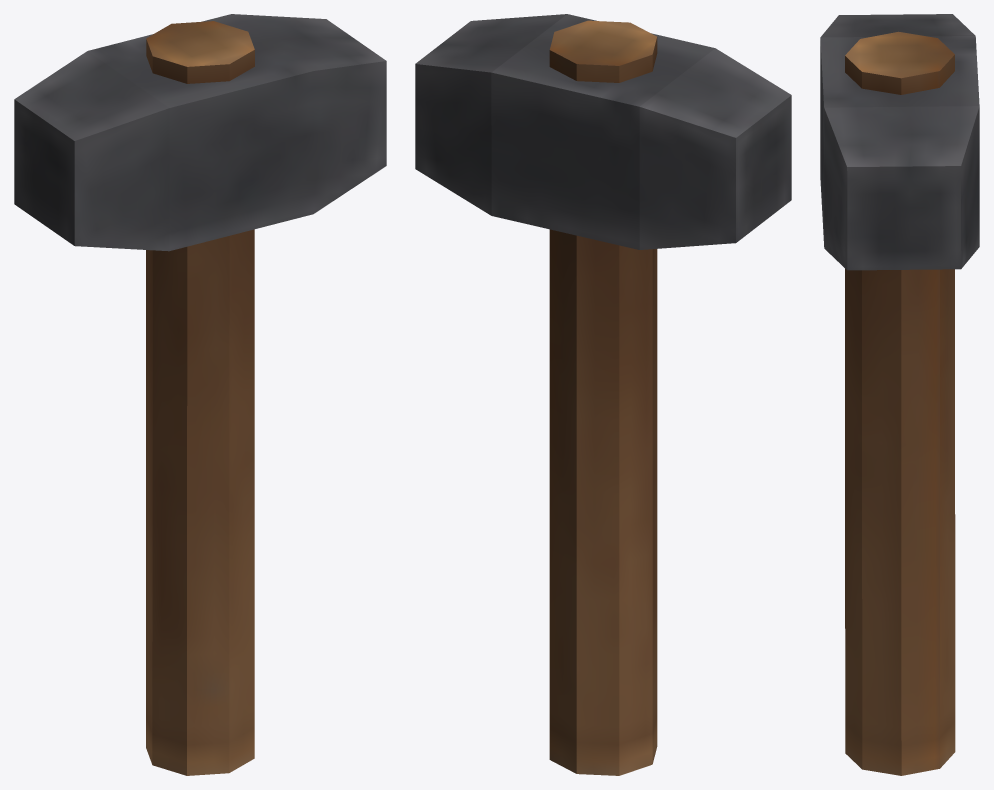
File: hammer.FBX
3 views of the same model, side by side, from view 1: azimuth 30°, elevation 25°; view 2: azimuth 150°, elevation 25°; view 3: azimuth 270°, elevation 25° (orthographic).
Parts seen in each view (by area): view 1: hammer; view 2: hammer; view 3: hammer.
Part boxes in pixels (x1=…): hammer: x1=14, y1=14, x2=386, y2=775; hammer: x1=415, y1=14, x2=791, y2=775; hammer: x1=820, y1=14, x2=979, y2=775.
Size of the model in its own units: 10.15 by 21.59 by 4.47.
